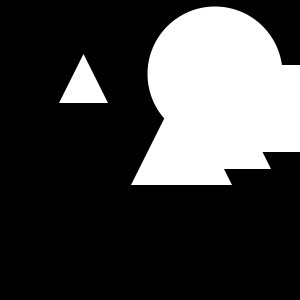circle: (213, 65, 300, 152)
rectangle: (148, 6, 282, 142)
triangle: (157, 55, 271, 169), (131, 84, 232, 185), (59, 54, 108, 103)
